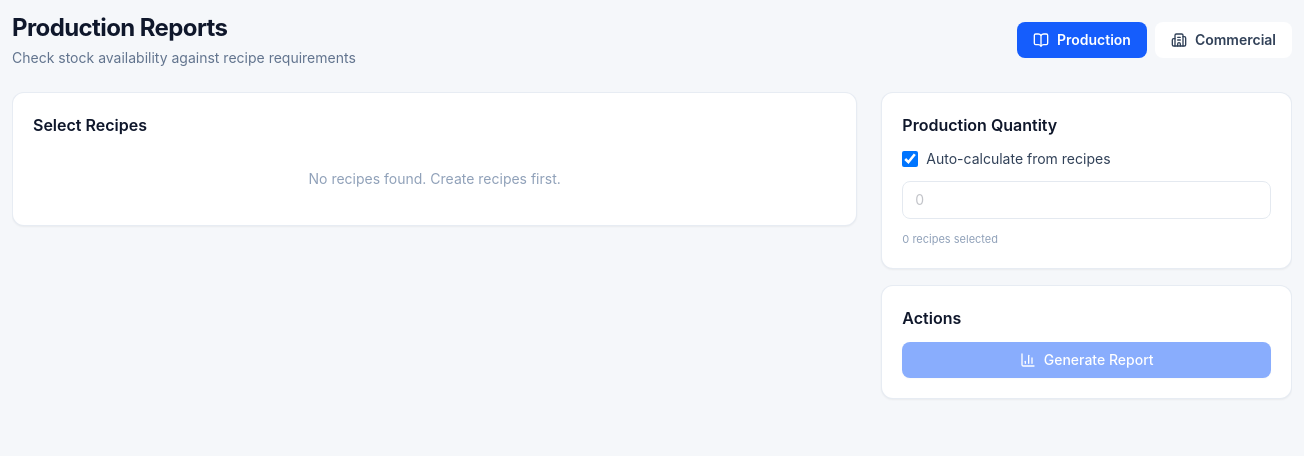
Scenario: Reports company filter › never presents a failed company fetch as a filter with no companies
The image size is (1304, 456).
Step 1. Click the button "Commercial" → click(1223, 40), box [1155,22,1292,58]
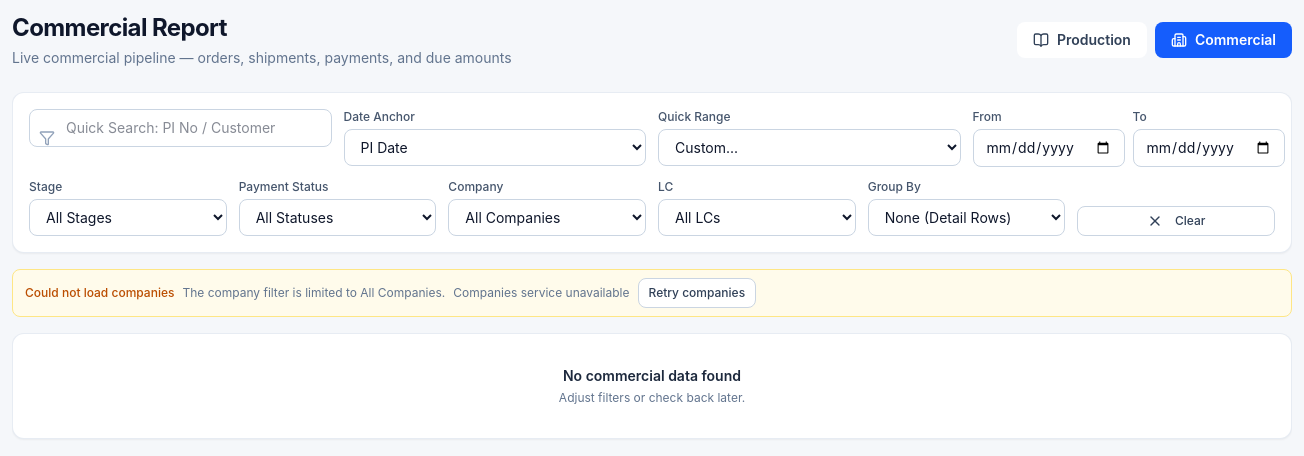
Check: the text "Could not load companies" is shown, box [25,285,174,301]
Check: the text "Companies service unavailable" is shown, box [453,285,630,301]
Check: the dropdown labelled "Company" is shown, box [448,199,646,236]
